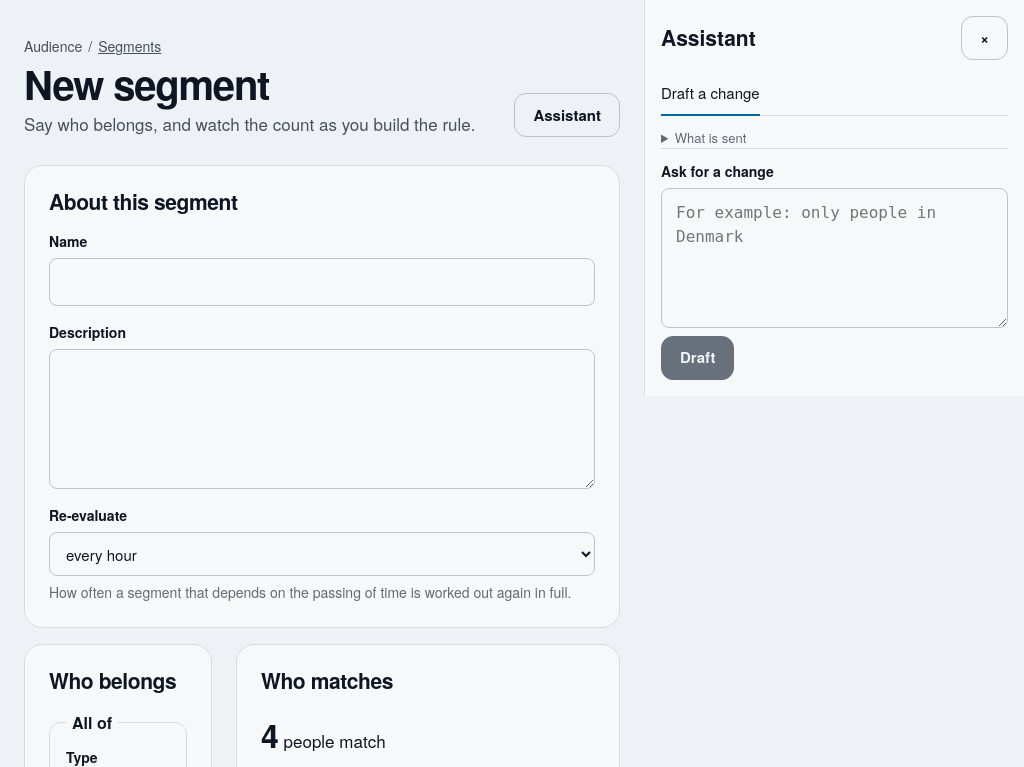
Test: offering the assistant on a segment › offers the draft panel on a new segment, with no segment to name
Type "Everyone in Odense" into the text box labelled "Ask for a change". click: (834, 258)
box: [661,188,1008,328]
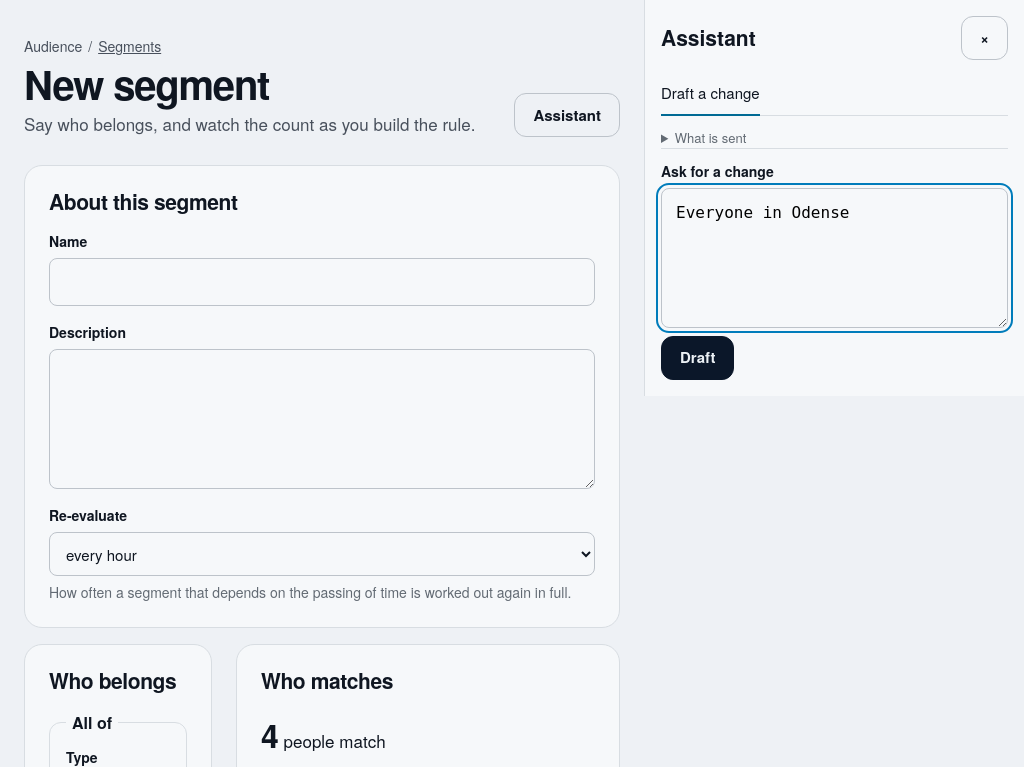
Click the button "Draft". click: (698, 358)
box: [661,336,734,380]
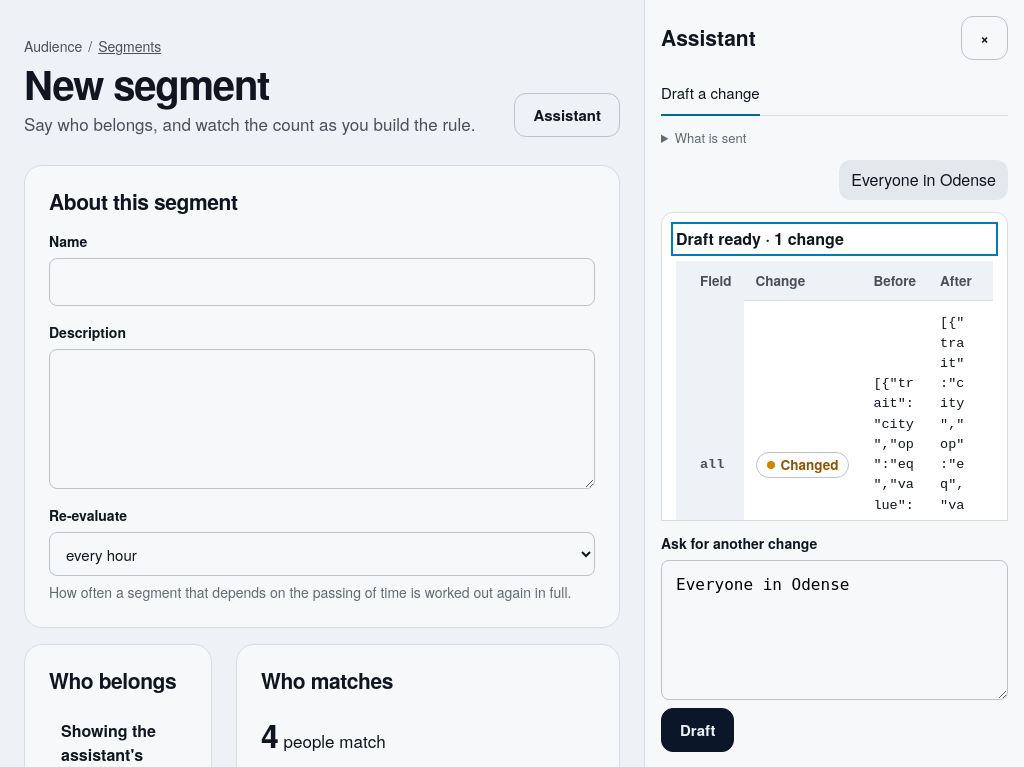
Expected: the heading "Draft ready · 1 change" is shown, [676,226,844,250]
